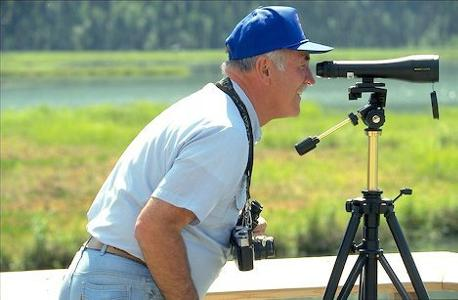person: (56, 8, 316, 300)
